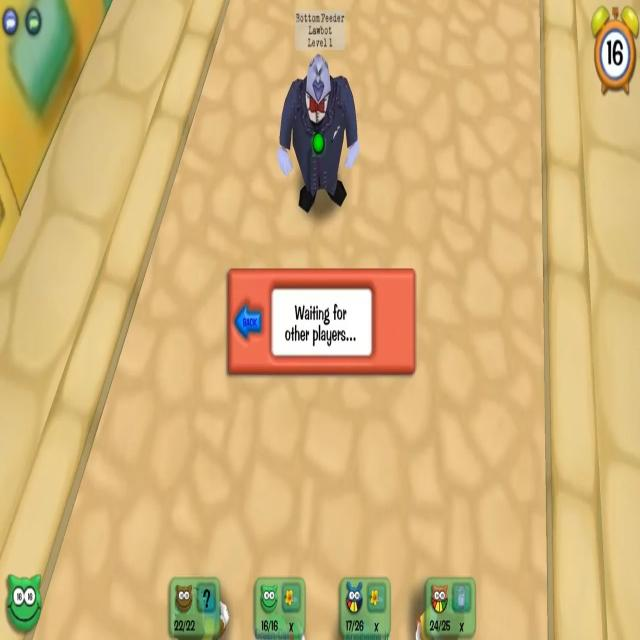bottomfeeder: (273, 10, 369, 212)
